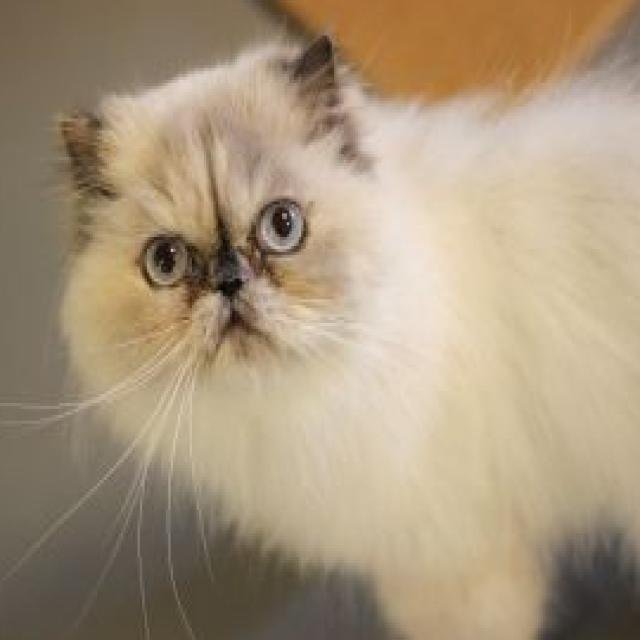Persian: (47, 29, 639, 640)
